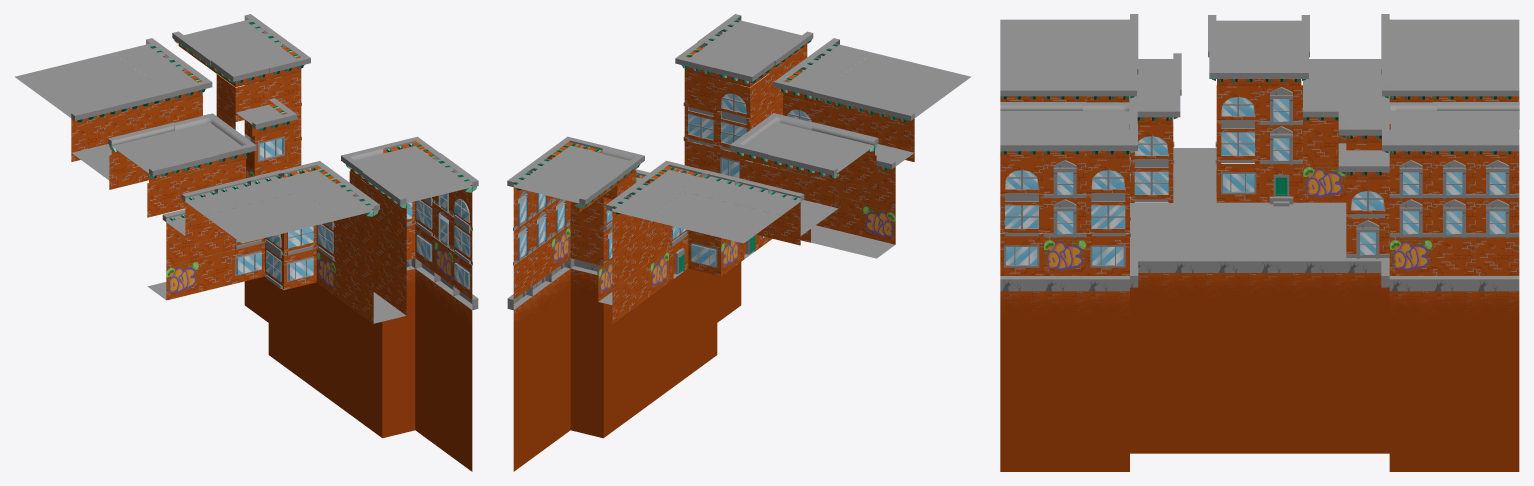
The model's file is kamer_001.fbx.
3 views of the same model, side by side, from view 1: azimuth 30°, elevation 25°; view 2: azimuth 150°, elevation 25°; view 3: azimuth 270°, elevation 25° (orthographic). The views are drawn at different scales.
Parts seen in each view (by area): view 1: Plane.021, Plane.046, Plane.059, Plane.062, Plane.044, Plane.026, Plane.022, Plane.114, Plane.419, Plane.447, Plane.433, Plane.058 (+107 smaller); view 2: Plane.115, Plane.024, Plane.149, Plane.114, Plane.126, Plane.420, Plane.448, Plane.434, Plane.065, Plane.044, Plane.128, Plane.095 (+110 smaller); view 3: Plane.006, Plane.141, Plane.157, Plane.070, Plane.072, Plane.139, Plane.010, Plane.069, Plane.071, Plane.135, Plane.146, Plane.155 (+149 smaller).
Part boxes in pixels (<box>): Plane.021: <box>180,159,245,209</box>; Plane.046: <box>137,96,202,131</box>; Plane.059: <box>236,98,297,136</box>; Plane.062: <box>250,42,310,80</box>; Plane.044: <box>151,66,212,103</box>; Plane.026: <box>197,129,256,166</box>; Plane.022: <box>211,56,269,87</box>; Plane.114: <box>278,161,341,191</box>; Plane.419: <box>382,327,415,369</box>; Plane.447: <box>382,396,415,438</box>; Plane.433: <box>382,361,415,403</box>; Plane.058: <box>254,128,287,170</box>; Plane.115: <box>816,104,881,144</box>; Plane.024: <box>740,159,805,200</box>; Plane.149: <box>714,56,774,87</box>; Plane.114: <box>773,65,834,103</box>; Plane.126: <box>675,42,735,79</box>; Plane.420: <box>570,327,603,369</box>; Plane.448: <box>570,396,603,438</box>; Plane.434: <box>570,361,603,403</box>; Plane.065: <box>570,224,603,265</box>; Plane.044: <box>644,160,707,191</box>; Plane.128: <box>684,72,717,113</box>; Plane.095: <box>730,128,789,166</box>; Plane.006: <box>1259,164,1302,206</box>; Plane.141: <box>1043,158,1086,199</box>; Plane.157: <box>1476,158,1519,199</box>; Plane.070: <box>1389,158,1432,199</box>; Plane.072: <box>1432,158,1475,199</box>; Plane.139: <box>1043,198,1086,238</box>; Plane.010: <box>1173,257,1216,296</box>; Plane.069: <box>1389,198,1432,238</box>; Plane.071: <box>1432,198,1475,238</box>; Plane.135: <box>1086,197,1129,237</box>; Plane.146: <box>1000,197,1043,237</box>; Plane.155: <box>1000,276,1043,315</box>.
Bounding box in the file's own units: 719 × 842 × 1201.
